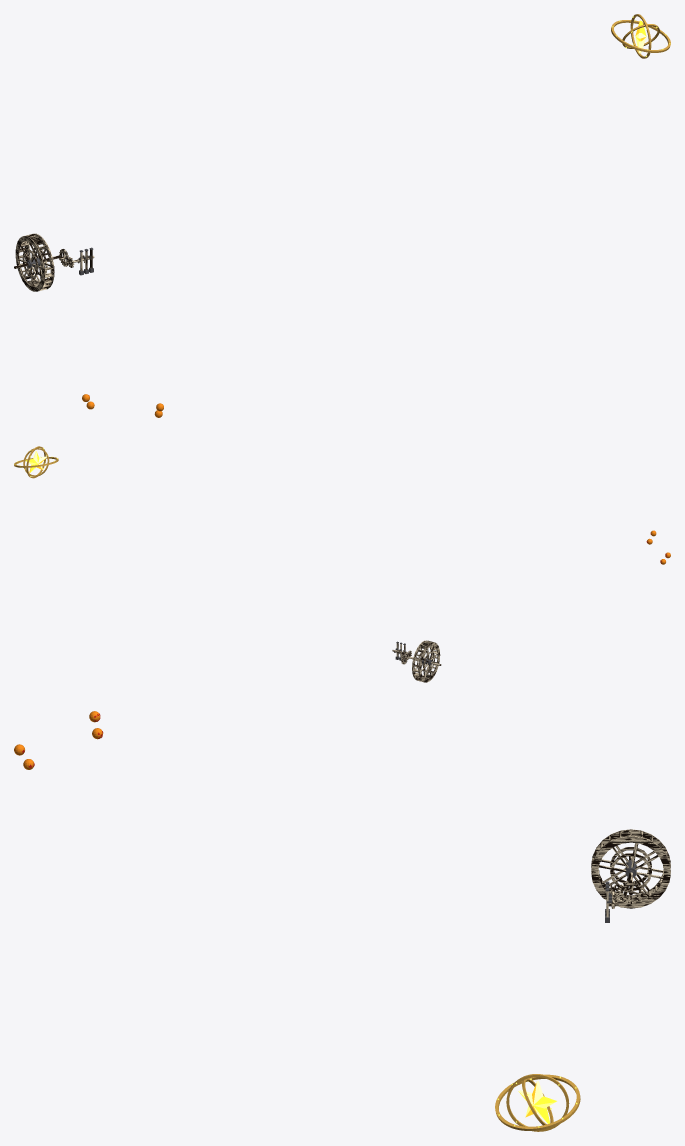
File: ILHA1_12_VFX_HELPERS_203d27.fbx
3 views of the same model, one above another, from view 1: azimuth 30°, elevation 25°; view 2: azimuth 150°, elevation 25°; view 3: azimuth 270°, elevation 25° (orthographic). The views are drawn at different scales.
Visible parts, largest first — view 1: VFX_WATER_Wheel__Wood_Dark; view 2: VFX_WATER_Wheel__Wood_Dark; view 3: VFX_WATER_Wheel__Wood_Dark, VFX_SUM_Ring_1__Metal_Gold.
Part boxes in pixels (x1,y1,x2,y2): VFX_WATER_Wheel__Wood_Dark: (14,233,60,291); VFX_WATER_Wheel__Wood_Dark: (407,640,441,682); VFX_WATER_Wheel__Wood_Dark: (591,829,670,908); VFX_SUM_Ring_1__Metal_Gold: (495,1074,580,1130).
Size of the model in its own units: 329 by 66.71 by 181.
8 materials, 1 textured.
